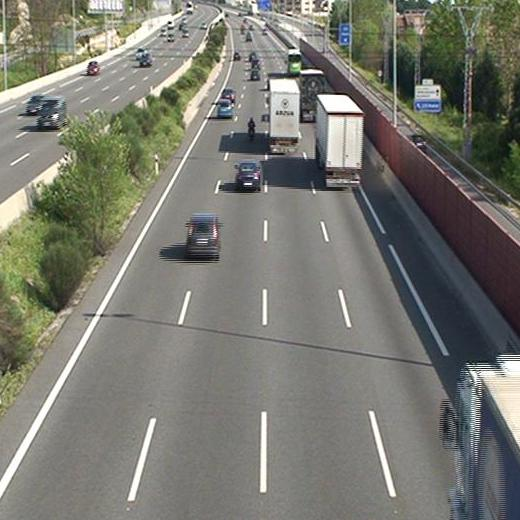bus: (286, 49, 303, 76)
car: (185, 214, 221, 258), (236, 160, 262, 190), (215, 99, 232, 116), (220, 87, 235, 98), (250, 70, 260, 80), (251, 59, 260, 69)
motorcycle: (247, 116, 257, 142)
small-truck: (300, 69, 324, 120)
truck: (316, 95, 365, 187), (266, 79, 300, 152)
